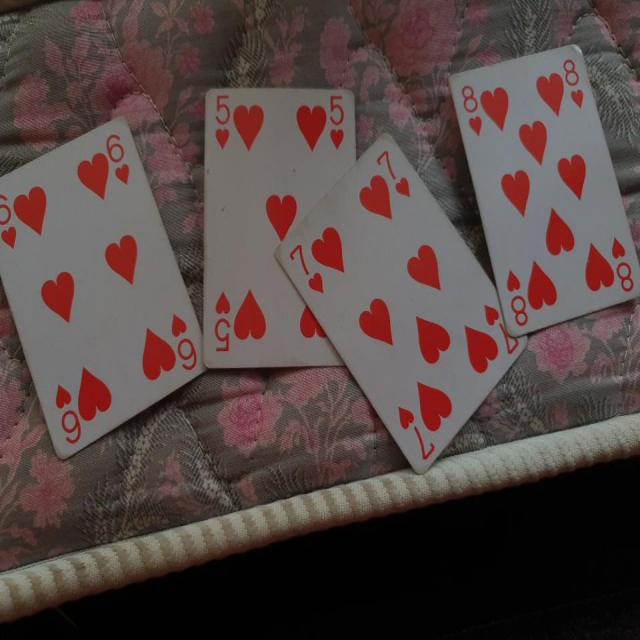5 Hearts: (196, 78, 369, 377)
6 Hearts: (1, 112, 201, 469)
7 Hearts: (277, 126, 528, 478)
8 Hearts: (440, 32, 640, 332)
